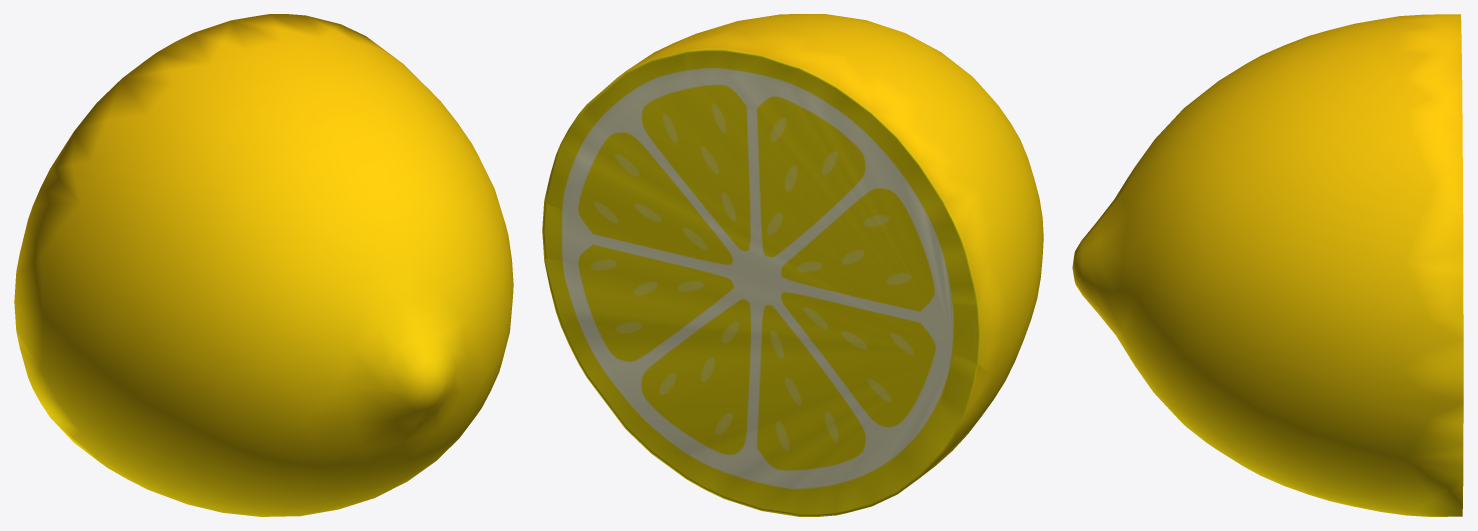
File: Lemon.fbx
The picture shows the model from 3 angles, left to right: view 1: azimuth 30°, elevation 25°; view 2: azimuth 150°, elevation 25°; view 3: azimuth 270°, elevation 25°; orthographic projection.
Parts seen in each view (by area): view 1: Lemon; view 2: Lemon; view 3: Lemon.
Part boxes in pixels (left/top/right/bottom): Lemon: left=14, top=14, right=513, bottom=516; Lemon: left=542, top=14, right=1043, bottom=516; Lemon: left=1072, top=14, right=1463, bottom=516.
Size of the model in its own units: 10.53 by 10.51 by 8.16.
